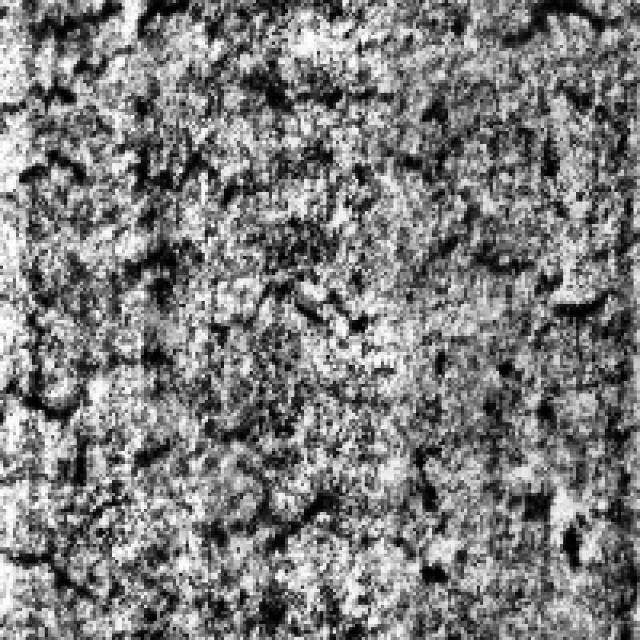Pitted_Surface: (3, 4, 458, 486), (476, 268, 634, 566)
